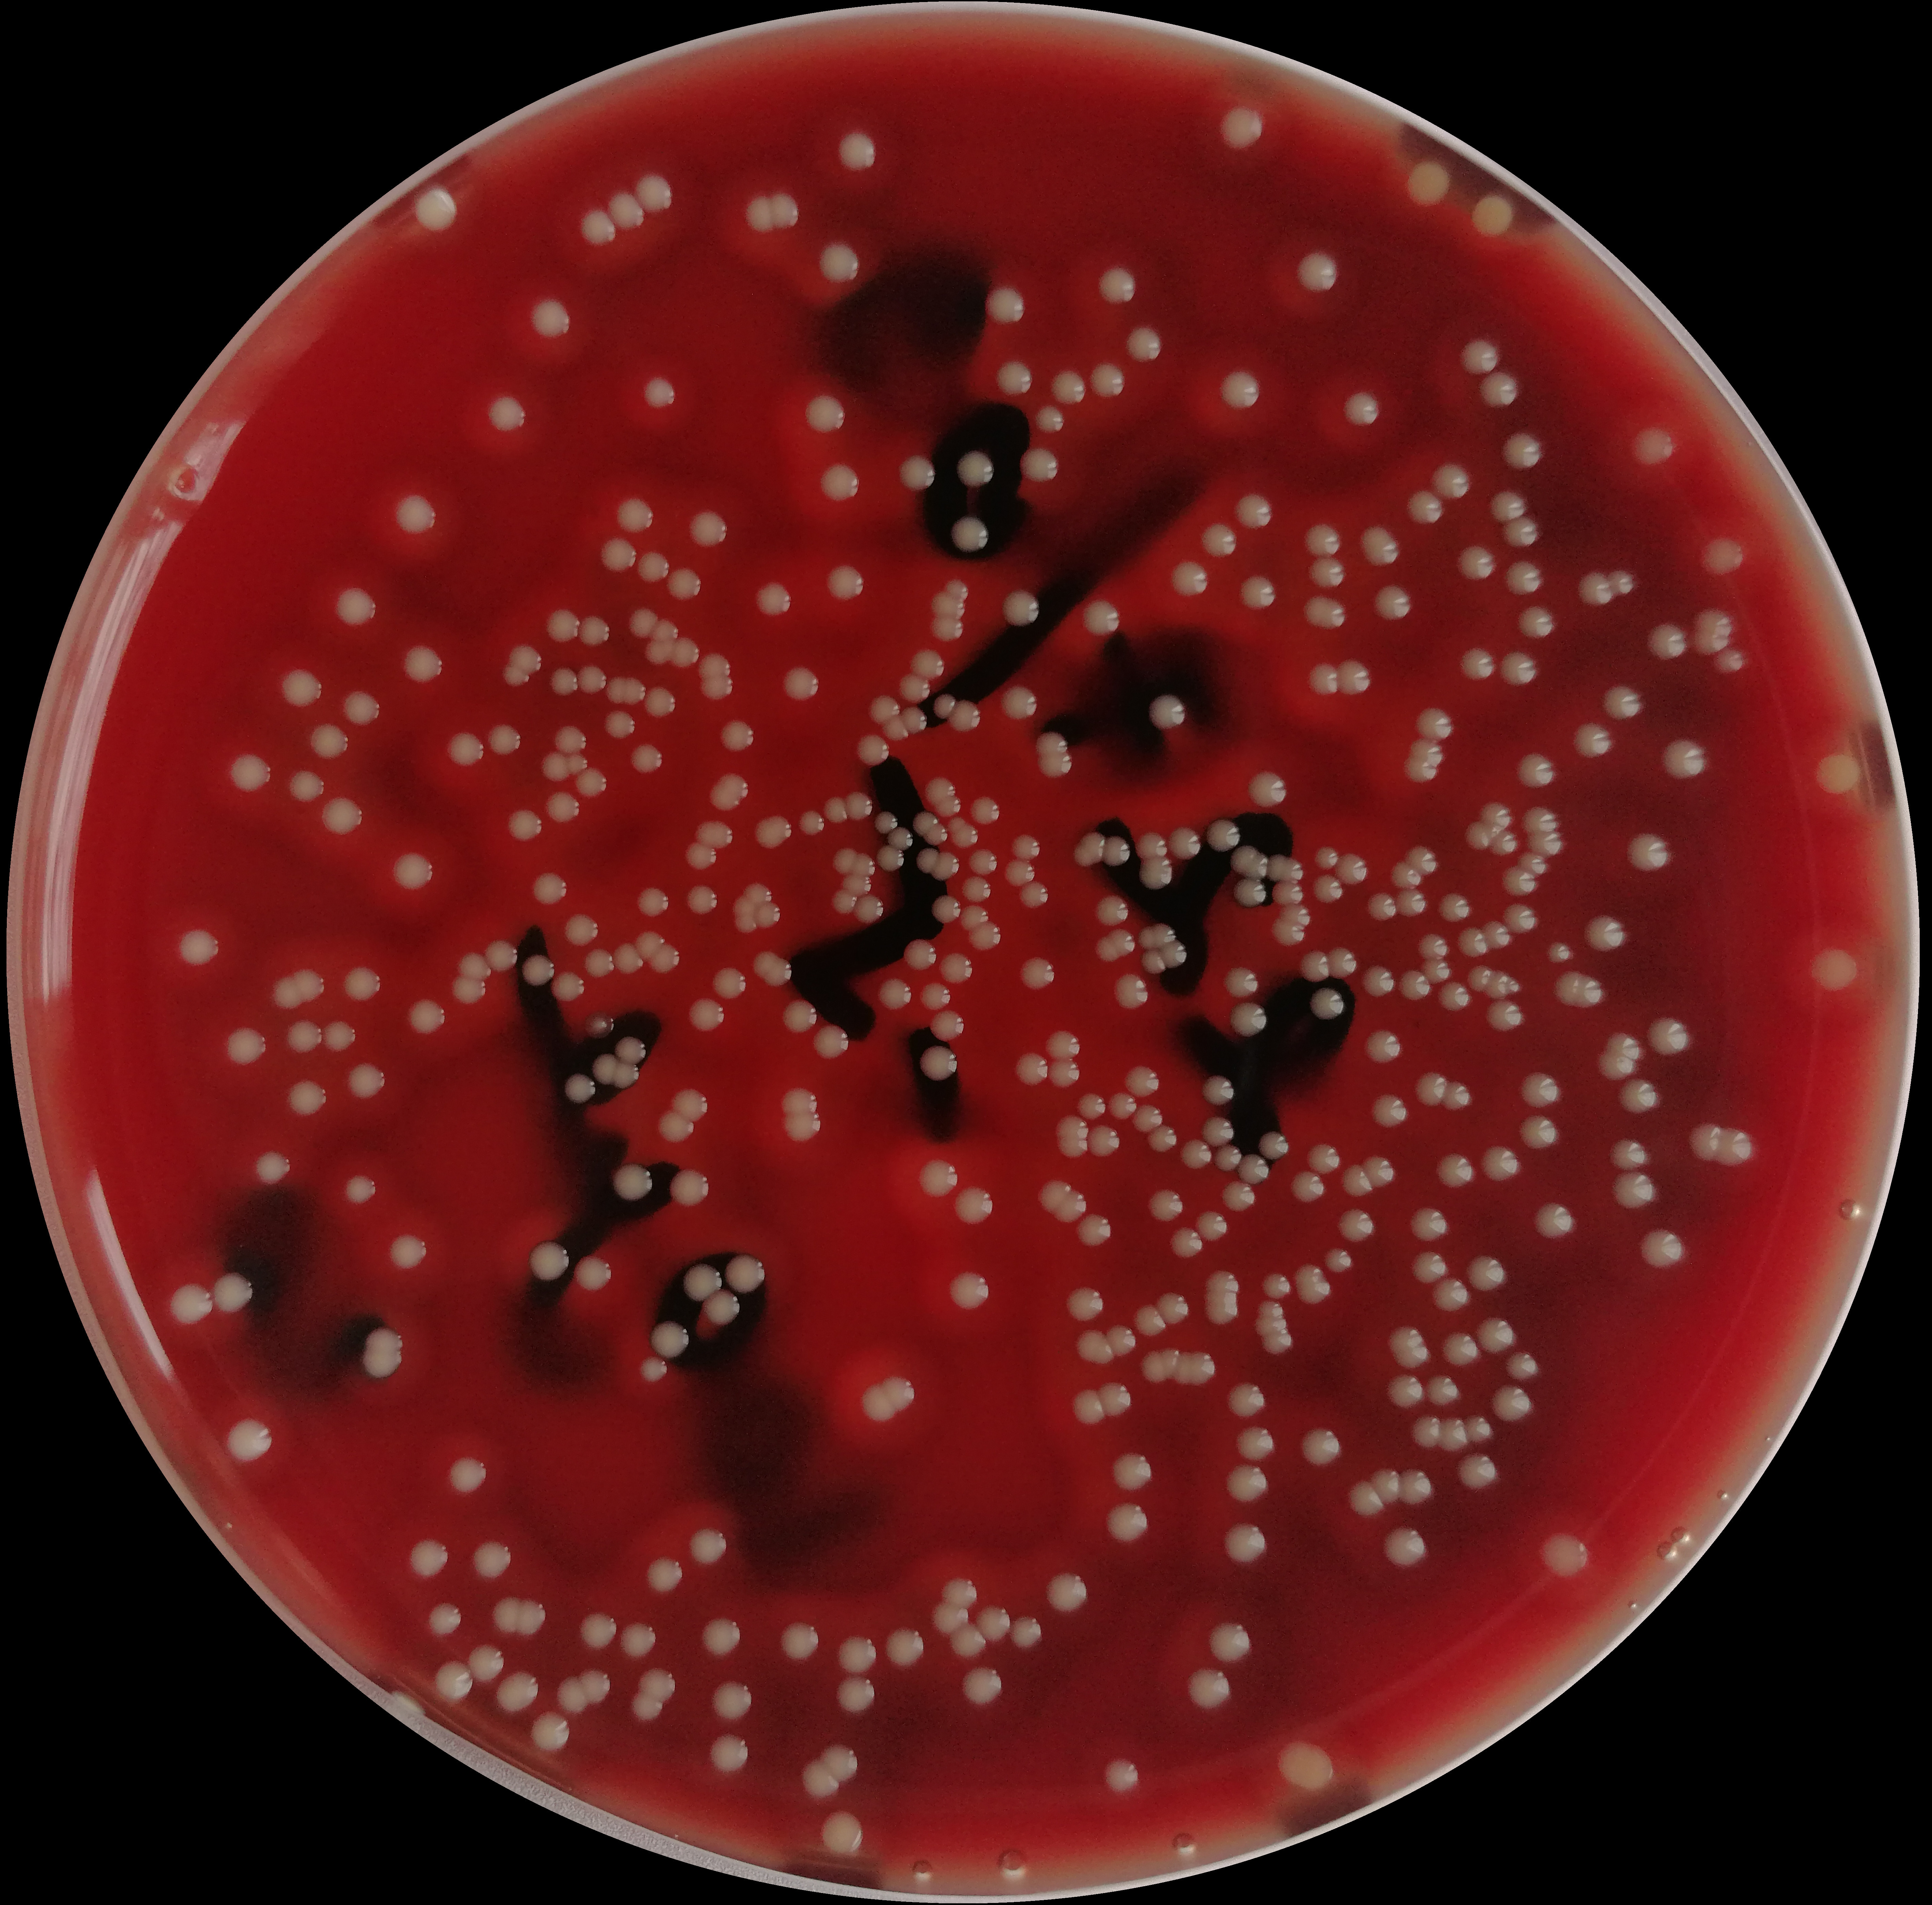sp21: (1274, 1736, 1339, 1793), (1810, 747, 1867, 801), (222, 1415, 277, 1469), (1808, 942, 1862, 996), (1641, 1225, 1693, 1279), (522, 293, 578, 344), (1686, 604, 1735, 661), (1401, 157, 1454, 209), (1538, 1528, 1592, 1579), (1377, 1521, 1431, 1572), (387, 848, 442, 897), (412, 187, 462, 237), (1613, 1167, 1663, 1218), (1466, 187, 1515, 239), (813, 239, 866, 286), (1658, 733, 1710, 780), (1644, 1014, 1696, 1061), (1042, 1568, 1094, 1615), (175, 926, 227, 973), (819, 1807, 866, 1858), (494, 1669, 545, 1717), (393, 492, 443, 539), (225, 752, 277, 797), (1356, 522, 1403, 570), (1386, 1322, 1435, 1369), (1218, 1519, 1267, 1567), (1185, 1664, 1232, 1713), (527, 1708, 574, 1757), (723, 1251, 771, 1298), (1579, 912, 1630, 958), (166, 1282, 216, 1328), (1230, 488, 1283, 532), (482, 394, 536, 436), (1295, 248, 1342, 295), (1531, 1195, 1578, 1242), (707, 1729, 754, 1776), (1300, 590, 1349, 635), (1297, 1425, 1346, 1471), (443, 1453, 489, 1502), (644, 1317, 693, 1362), (316, 794, 365, 839), (332, 583, 380, 628), (801, 393, 852, 436), (777, 1617, 820, 1668), (1693, 532, 1745, 574), (909, 1158, 962, 1200), (1632, 420, 1677, 468), (881, 1622, 927, 1669), (817, 1739, 862, 1786), (407, 1533, 452, 1581), (1216, 106, 1265, 150), (1241, 768, 1290, 811), (1223, 1462, 1272, 1506), (944, 1268, 995, 1310), (836, 127, 881, 173), (1096, 262, 1141, 307), (1218, 366, 1264, 412), (1454, 541, 1499, 586), (527, 1239, 572, 1284), (630, 171, 677, 215), (817, 461, 864, 504), (1569, 719, 1616, 762), (1513, 748, 1560, 792), (1627, 830, 1674, 874), (960, 1664, 1007, 1708), (284, 1076, 332, 1120), (1497, 429, 1546, 471), (1614, 1075, 1663, 1116), (1515, 1068, 1564, 1110), (1513, 1110, 1562, 1151), (403, 996, 452, 1038), (222, 1024, 271, 1066), (983, 283, 1028, 326), (991, 356, 1037, 399), (1496, 647, 1541, 691), (1712, 1123, 1756, 1169), (1105, 1500, 1150, 1544), (1208, 1619, 1251, 1664), (796, 1757, 841, 1800), (710, 1678, 756, 1722), (471, 1535, 515, 1581), (281, 665, 326, 708), (209, 1270, 255, 1314), (948, 513, 995, 555), (860, 1383, 902, 1430), (600, 190, 649, 230), (1599, 682, 1648, 722), (1084, 358, 1127, 401), (686, 1525, 730, 1568), (578, 1610, 621, 1654), (433, 1659, 476, 1703), (668, 1165, 712, 1209), (400, 640, 443, 684), (639, 372, 684, 413), (953, 450, 998, 492), (836, 1633, 878, 1678), (951, 1185, 997, 1226), (339, 687, 384, 729), (1016, 445, 1063, 485), (1407, 1204, 1454, 1244), (305, 720, 353, 761), (1511, 604, 1560, 642), (1124, 323, 1166, 366), (895, 452, 939, 494), (1340, 387, 1384, 429), (1428, 461, 1471, 502), (1478, 1141, 1522, 1183), (1232, 1424, 1276, 1465), (946, 1619, 990, 1661), (609, 1160, 653, 1202), (1080, 598, 1124, 640), (340, 965, 384, 1007), (346, 1059, 389, 1101), (614, 494, 660, 534), (1108, 1451, 1154, 1492), (682, 1260, 723, 1305), (752, 579, 798, 619), (1368, 1090, 1410, 1132), (700, 1615, 742, 1657), (702, 1284, 743, 1326), (920, 1041, 962, 1083), (1169, 556, 1211, 598), (780, 663, 822, 705), (686, 509, 730, 550), (1456, 335, 1499, 375), (1476, 368, 1520, 408), (1501, 558, 1545, 598), (1300, 520, 1344, 560), (1646, 621, 1689, 661), (1454, 644, 1497, 684), (1433, 1150, 1476, 1190), (1606, 1134, 1649, 1174), (1222, 1378, 1265, 1418), (253, 1146, 293, 1190), (342, 1169, 386, 1209), (1101, 1755, 1140, 1800), (281, 1017, 326, 1055), (1686, 1120, 1723, 1167), (578, 208, 620, 248), (1197, 520, 1239, 560), (1370, 583, 1412, 623), (1091, 891, 1133, 932), (1017, 954, 1059, 994), (1489, 1382, 1531, 1422), (1456, 1451, 1497, 1492), (618, 1619, 658, 1661), (466, 1642, 506, 1683), (572, 1253, 613, 1294), (780, 994, 820, 1036), (874, 975, 916, 1015), (686, 996, 728, 1036), (752, 811, 794, 851), (998, 588, 1040, 628), (824, 562, 866, 602), (1047, 368, 1091, 406), (1403, 490, 1447, 529), (1602, 1028, 1646, 1066), (1360, 1028, 1403, 1066), (1300, 1139, 1344, 1178), (1199, 1289, 1243, 1328), (1463, 1253, 1506, 1291), (387, 1232, 431, 1270), (1145, 693, 1189, 731), (766, 188, 803, 234), (742, 190, 778, 236), (1070, 1329, 1115, 1366), (1333, 656, 1374, 696), (1229, 1001, 1269, 1041), (576, 1666, 616, 1706), (880, 1375, 920, 1415), (812, 1022, 852, 1062), (445, 727, 485, 768), (286, 768, 326, 808), (1499, 511, 1541, 550), (1305, 984, 1347, 1022), (1475, 1314, 1517, 1352), (1344, 1478, 1386, 1516), (834, 1675, 876, 1713), (635, 1664, 677, 1703), (935, 949, 977, 987), (529, 871, 571, 909), (1709, 640, 1752, 677), (1483, 996, 1527, 1033), (1061, 1286, 1105, 1322), (1436, 1329, 1480, 1366), (974, 1601, 1011, 1645), (1574, 567, 1613, 607), (1237, 574, 1278, 612), (1360, 963, 1400, 1001), (1070, 830, 1108, 871), (1223, 961, 1262, 1001), (1396, 1467, 1435, 1507), (646, 1554, 684, 1594), (855, 731, 895, 769), (595, 536, 635, 574), (482, 937, 522, 975), (1415, 705, 1457, 741), (1330, 850, 1372, 886), (1201, 816, 1243, 853), (998, 684, 1040, 720), (318, 1019, 360, 1055), (1522, 823, 1565, 858), (928, 1601, 972, 1636), (447, 973, 492, 1007), (1431, 1275, 1470, 1314), (424, 1600, 462, 1638), (901, 937, 939, 975), (1394, 968, 1435, 1005), (1134, 855, 1175, 891), (1110, 973, 1150, 1010), (1361, 1155, 1401, 1191), (1337, 1207, 1377, 1244), (1155, 1287, 1192, 1328), (1386, 1369, 1422, 1410), (1367, 1467, 1403, 1507), (1007, 1610, 1044, 1650), (717, 717, 757, 754), (541, 789, 581, 825), (552, 720, 592, 757), (1485, 488, 1527, 523), (1407, 734, 1449, 769), (1400, 752, 1442, 787), (1412, 1068, 1447, 1110), (1265, 851, 1307, 886), (1410, 1413, 1445, 1455), (515, 1594, 548, 1638), (490, 1593, 522, 1638), (1307, 553, 1346, 590), (1307, 659, 1344, 698), (1574, 973, 1611, 1012), (1086, 1123, 1124, 1160), (1147, 1185, 1183, 1223), (1234, 1150, 1272, 1186), (1192, 1207, 1230, 1244), (939, 1574, 977, 1610), (927, 1007, 965, 1043), (710, 965, 749, 1001), (564, 911, 600, 949), (667, 565, 705, 602), (543, 605, 579, 644), (641, 684, 677, 722), (290, 966, 328, 1003), (1435, 890, 1475, 925), (1045, 1052, 1086, 1087), (1096, 1378, 1131, 1418), (1070, 1387, 1105, 1427), (555, 1676, 590, 1717), (784, 1110, 824, 1144), (656, 1110, 696, 1144), (560, 1073, 600, 1108), (548, 970, 588, 1005), (1073, 1212, 1115, 1246), (361, 1345, 403, 1378), (518, 953, 560, 986), (693, 816, 735, 850), (1550, 966, 1581, 1010), (1412, 1251, 1449, 1287), (1403, 839, 1440, 876), (1290, 1167, 1326, 1204), (1222, 1178, 1258, 1214), (1168, 1225, 1204, 1261), (1131, 1301, 1168, 1338), (686, 883, 723, 919), (1501, 900, 1539, 935), (1042, 1029, 1080, 1064), (1122, 1064, 1161, 1099), (670, 1089, 709, 1123), (503, 806, 541, 841), (681, 837, 721, 871), (1440, 1078, 1476, 1113), (1323, 946, 1360, 980), (1363, 888, 1400, 923), (1000, 857, 1037, 891), (1012, 1050, 1049, 1085), (1201, 1073, 1237, 1108), (1035, 1179, 1070, 1216), (1340, 1162, 1375, 1198), (1422, 1369, 1457, 1406), (920, 979, 955, 1015), (637, 884, 674, 919), (909, 645, 946, 680), (625, 605, 661, 640), (457, 949, 494, 984), (1520, 804, 1559, 837), (1389, 858, 1428, 891), (1199, 1113, 1237, 1146), (1436, 1413, 1470, 1451), (632, 1690, 665, 1729), (504, 640, 543, 673), (1597, 1050, 1637, 1082), (1033, 401, 1068, 436), (647, 940, 682, 975), (948, 698, 983, 733), (635, 550, 670, 584), (576, 612, 611, 647), (487, 720, 522, 755), (269, 975, 304, 1010), (1295, 1263, 1328, 1300), (1501, 864, 1538, 897), (1478, 918, 1515, 951), (1415, 953, 1452, 986), (1311, 874, 1347, 907), (1166, 827, 1202, 860), (1100, 832, 1133, 869), (1178, 1137, 1215, 1171), (1504, 1349, 1541, 1382), (714, 769, 750, 802), (628, 741, 665, 775), (1052, 1113, 1093, 1143), (1189, 1349, 1218, 1389), (1297, 949, 1332, 982), (1225, 843, 1260, 876), (614, 1034, 649, 1068), (581, 949, 616, 982), (852, 891, 885, 926), (574, 768, 609, 801), (897, 672, 932, 705), (649, 616, 684, 649), (1476, 799, 1513, 830), (1436, 980, 1473, 1012), (1271, 877, 1307, 909), (1271, 918, 1307, 949), (1230, 876, 1267, 907), (637, 1352, 674, 1383), (599, 708, 635, 740), (930, 590, 967, 621), (1414, 930, 1452, 959), (1202, 1267, 1241, 1296), (365, 1324, 403, 1354), (1604, 565, 1637, 598), (1393, 886, 1426, 919), (967, 792, 1000, 825), (1075, 1090, 1108, 1123), (1106, 1089, 1140, 1122), (763, 956, 796, 989), (609, 1059, 642, 1092), (928, 850, 962, 883), (841, 790, 874, 823), (539, 750, 572, 783), (1454, 925, 1489, 956), (1133, 829, 1168, 860), (967, 921, 1002, 953), (1129, 1101, 1164, 1132), (1321, 1244, 1356, 1275), (581, 1010, 616, 1041), (750, 897, 782, 932), (1108, 1322, 1138, 1359), (927, 614, 963, 644), (782, 1087, 822, 1113), (1253, 1314, 1293, 1340), (1463, 963, 1494, 996), (1105, 926, 1138, 958), (1054, 1191, 1087, 1223), (1461, 1413, 1494, 1444), (928, 891, 962, 923), (668, 637, 700, 670), (641, 637, 674, 668), (576, 665, 609, 696), (1154, 939, 1189, 968), (956, 902, 991, 932), (1260, 1270, 1295, 1300), (921, 776, 956, 806), (866, 694, 901, 724), (620, 673, 649, 708), (1464, 816, 1492, 853), (1035, 750, 1072, 778), (703, 785, 740, 813), (695, 652, 731, 680), (1140, 1349, 1166, 1387), (1009, 830, 1040, 862), (1138, 949, 1171, 979), (1017, 881, 1051, 911), (1145, 1123, 1178, 1153), (1257, 1132, 1290, 1162), (613, 942, 642, 975), (634, 930, 663, 963), (1052, 1134, 1087, 1162), (1035, 729, 1070, 757), (1483, 965, 1510, 1001), (1171, 1349, 1196, 1387), (698, 673, 736, 698), (1517, 848, 1548, 877), (962, 874, 993, 904), (747, 949, 778, 979), (829, 886, 859, 918), (850, 850, 880, 881), (550, 665, 579, 696), (1543, 937, 1576, 965), (1278, 900, 1311, 928), (590, 1052, 618, 1085), (1155, 1345, 1182, 1380), (1213, 1141, 1243, 1171), (820, 794, 850, 823), (967, 848, 998, 876), (899, 705, 927, 736), (881, 715, 909, 747), (1258, 1329, 1291, 1355), (841, 872, 874, 898), (740, 879, 773, 905), (911, 811, 941, 839), (796, 808, 826, 836), (915, 844, 941, 876), (499, 665, 531, 691), (941, 577, 974, 602), (876, 844, 904, 872), (873, 809, 901, 837), (932, 693, 960, 720), (829, 846, 859, 872), (951, 823, 981, 850), (932, 794, 962, 820), (1494, 825, 1518, 857), (1154, 919, 1178, 951), (604, 672, 627, 705), (1093, 937, 1119, 965), (564, 752, 590, 780), (1244, 851, 1269, 881), (1257, 1294, 1286, 1319), (920, 822, 949, 846), (1312, 844, 1339, 871), (887, 827, 913, 853), (730, 893, 756, 918), (1136, 923, 1157, 949), (1503, 973, 1524, 998), (946, 815, 967, 837), (735, 914, 757, 935)
